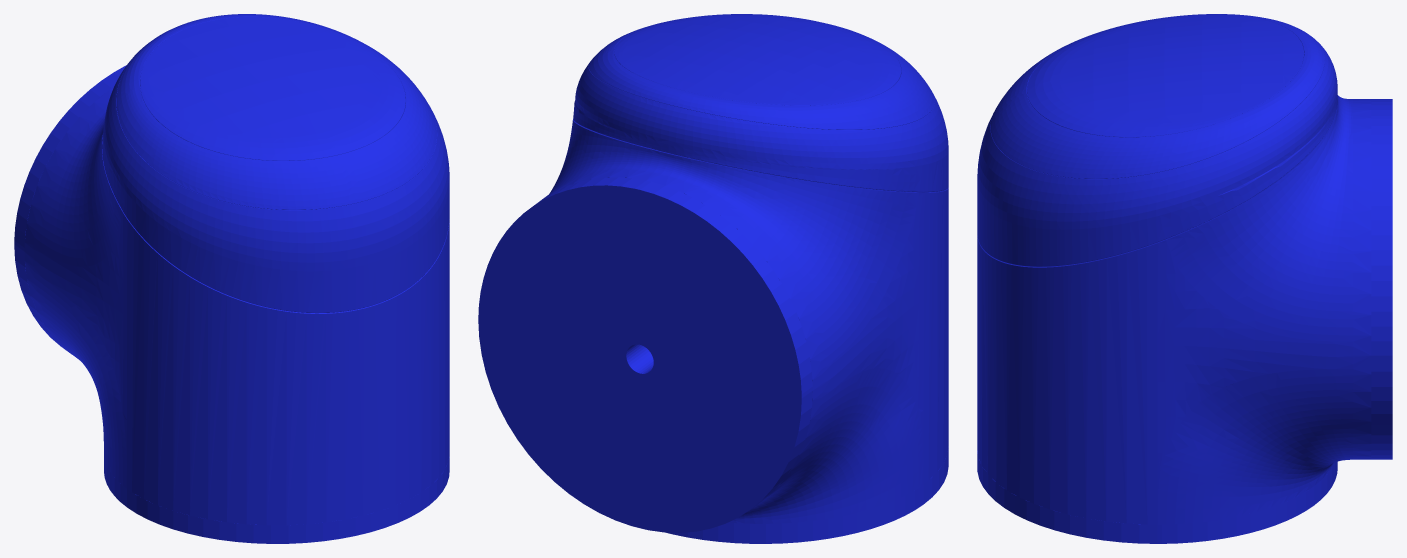
The picture shows the model from 3 angles, left to right: view 1: azimuth 30°, elevation 25°; view 2: azimuth 150°, elevation 25°; view 3: azimuth 270°, elevation 25°; orthographic projection. The views are drawn at different scales.
Parts seen in each view (by area): view 1: JointOne.001; view 2: JointOne.001; view 3: JointOne.001.
Boxes of the visible parts, x1,y1,x2,y2 form: JointOne.001: [14, 14, 449, 543]; JointOne.001: [478, 14, 948, 543]; JointOne.001: [977, 14, 1392, 543].
Bounding box in the file's own units: 0.118 × 0.136 × 0.1497.
